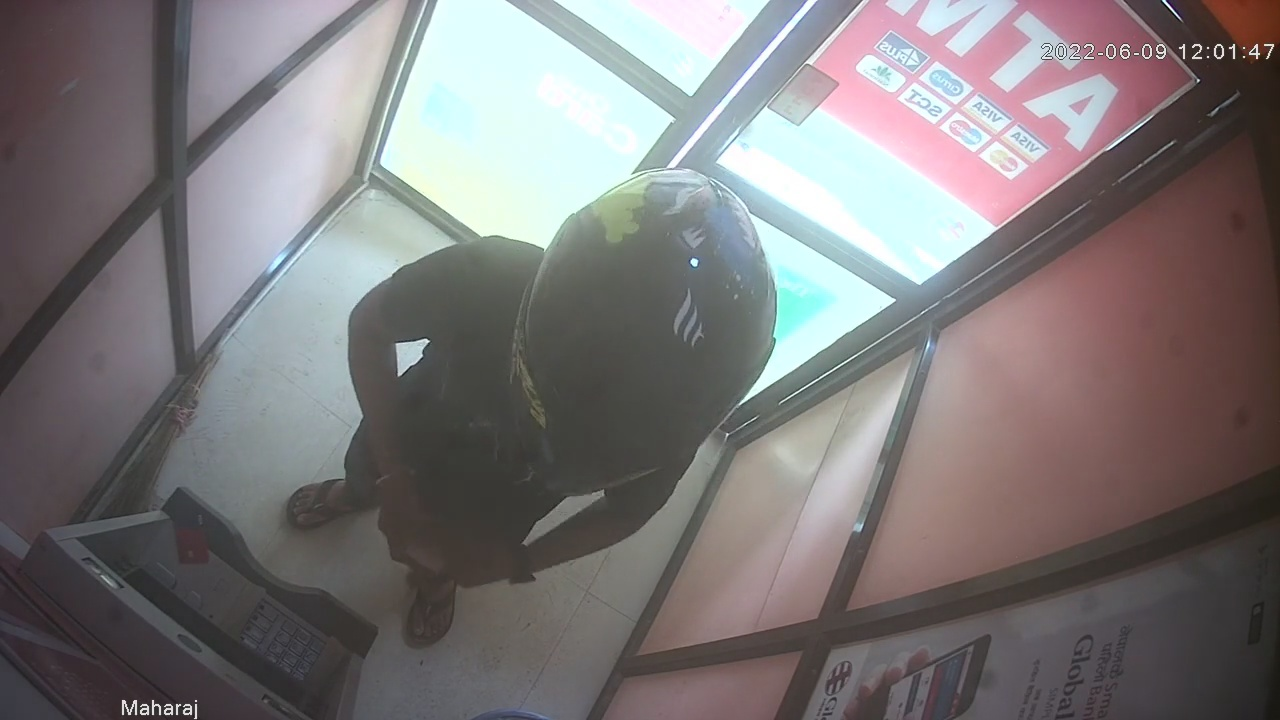helmet: (504, 169, 777, 497)
person: (284, 166, 779, 650)
